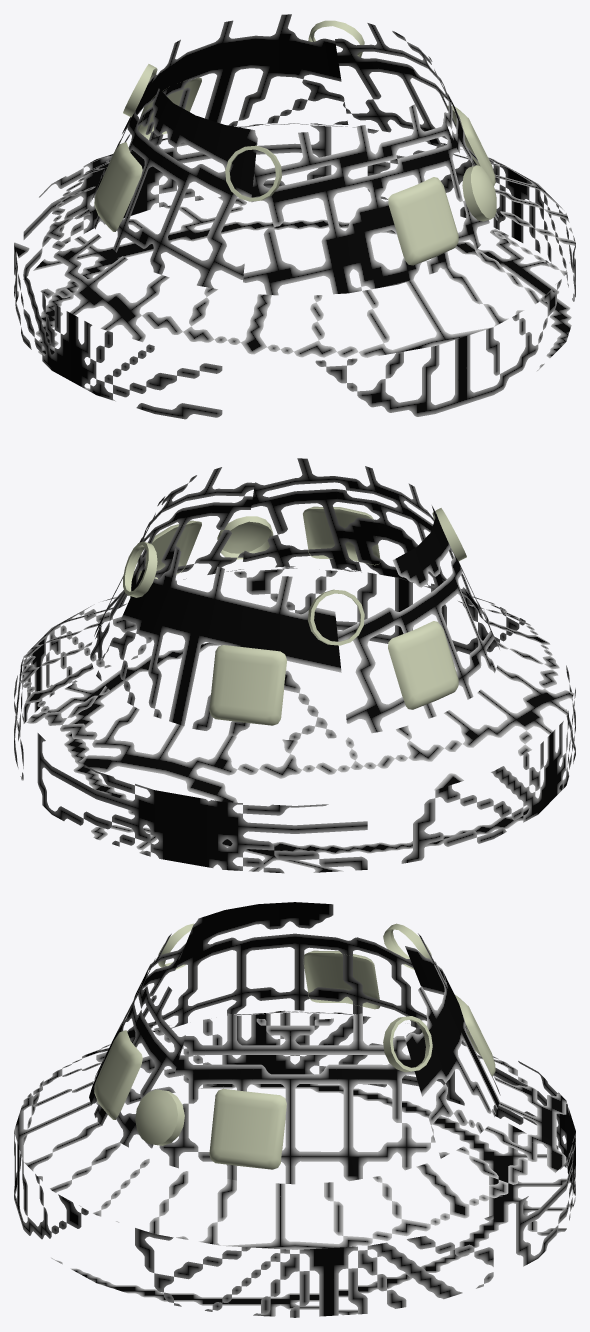
Rendered from eridani_node_adapter_s1p5_s0p5_1_interior.obj.
3 views of the same model, one above another, from view 1: azimuth 30°, elevation 25°; view 2: azimuth 150°, elevation 25°; view 3: azimuth 270°, elevation 25° (orthographic).
Parts seen in each view (by area): view 1: internal1, mask1; view 2: internal1, mask1; view 3: internal1, mask1.
Part boxes in pixels (x1,y1,x2,y2): internal1: (14,14,575,419); mask1: (94,20,496,265); internal1: (14,458,575,873); mask1: (123,506,466,725); internal1: (14,902,575,1317); mask1: (94,923,495,1169).
Bounding box in the file's own units: 1.88 × 0.875 × 1.88.
Materials: 2 (1 with a texture image).
